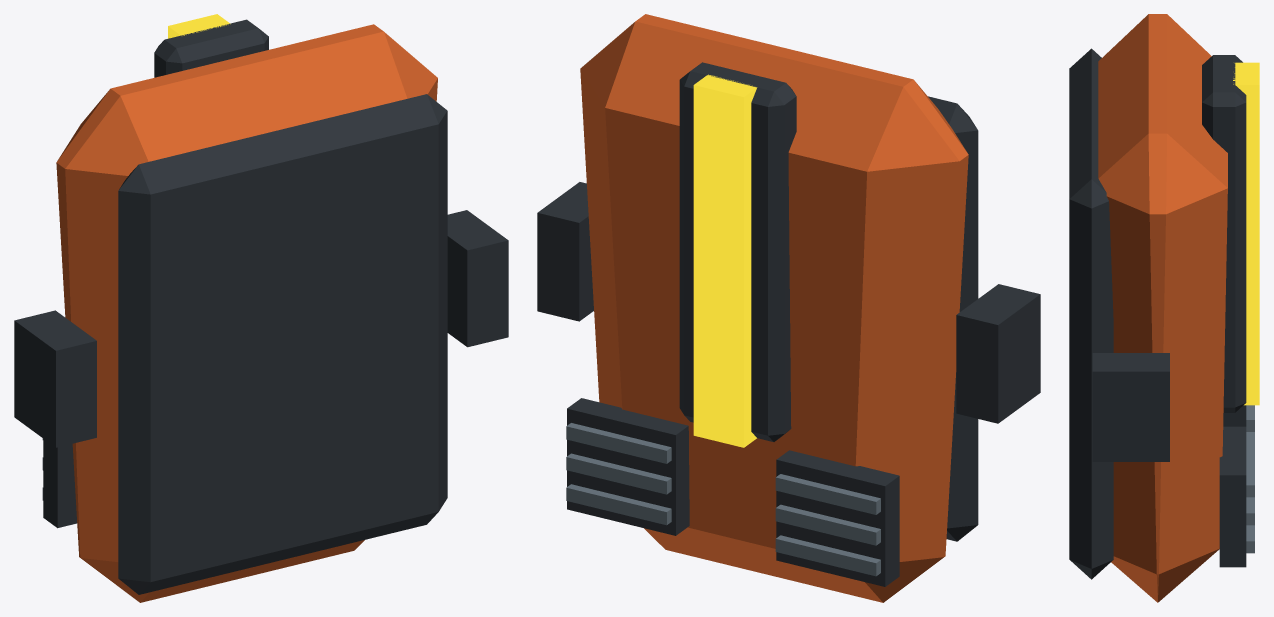
The model's file is Mask.fbx.
3 renders of one model, left to right at view 1: azimuth 30°, elevation 25°; view 2: azimuth 150°, elevation 25°; view 3: azimuth 270°, elevation 25°, orthographic. The views are drawn at different scales.
Visible parts, largest first — view 1: MaskBody; view 2: MaskBody; view 3: MaskBody.
Part boxes in pixels (x1,y1,x2,y2): MaskBody: [14, 14, 508, 602]; MaskBody: [537, 14, 1040, 602]; MaskBody: [1069, 14, 1259, 602].
Size of the model in its own units: 0.22 by 0.086 by 0.24.
